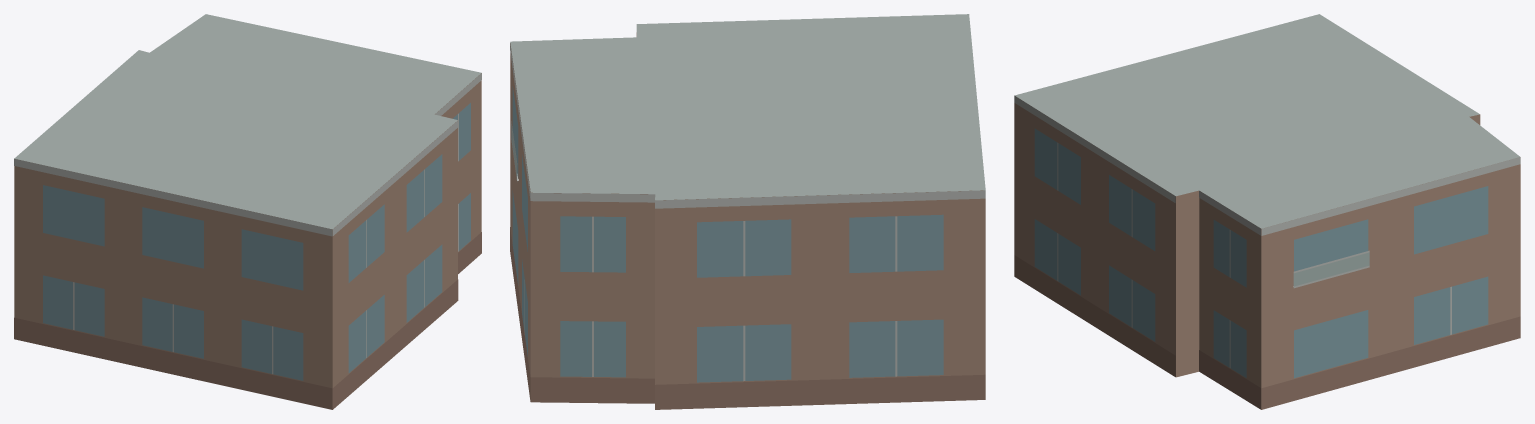
Rendered from survey-upis-32690911.glb.
3 views of the same model, side by side, from view 1: azimuth 30°, elevation 25°; view 2: azimuth 150°, elevation 25°; view 3: azimuth 270°, elevation 25° (orthographic). The views are drawn at different scales.
Parts seen in each view (by area): view 1: survey-upis-32690911.tmp; view 2: survey-upis-32690911.tmp; view 3: survey-upis-32690911.tmp.
Part boxes in pixels (x1,y1,x2,y2): survey-upis-32690911.tmp: (14,14,481,409); survey-upis-32690911.tmp: (510,14,985,409); survey-upis-32690911.tmp: (1014,14,1520,409).
Bounding box in the file's own units: 15.52 × 6.1 × 15.46.
